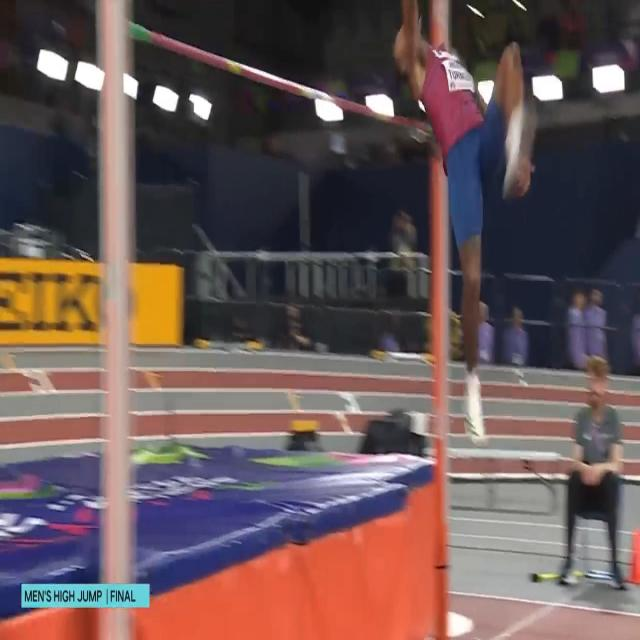jump: (387, 0, 539, 448)
